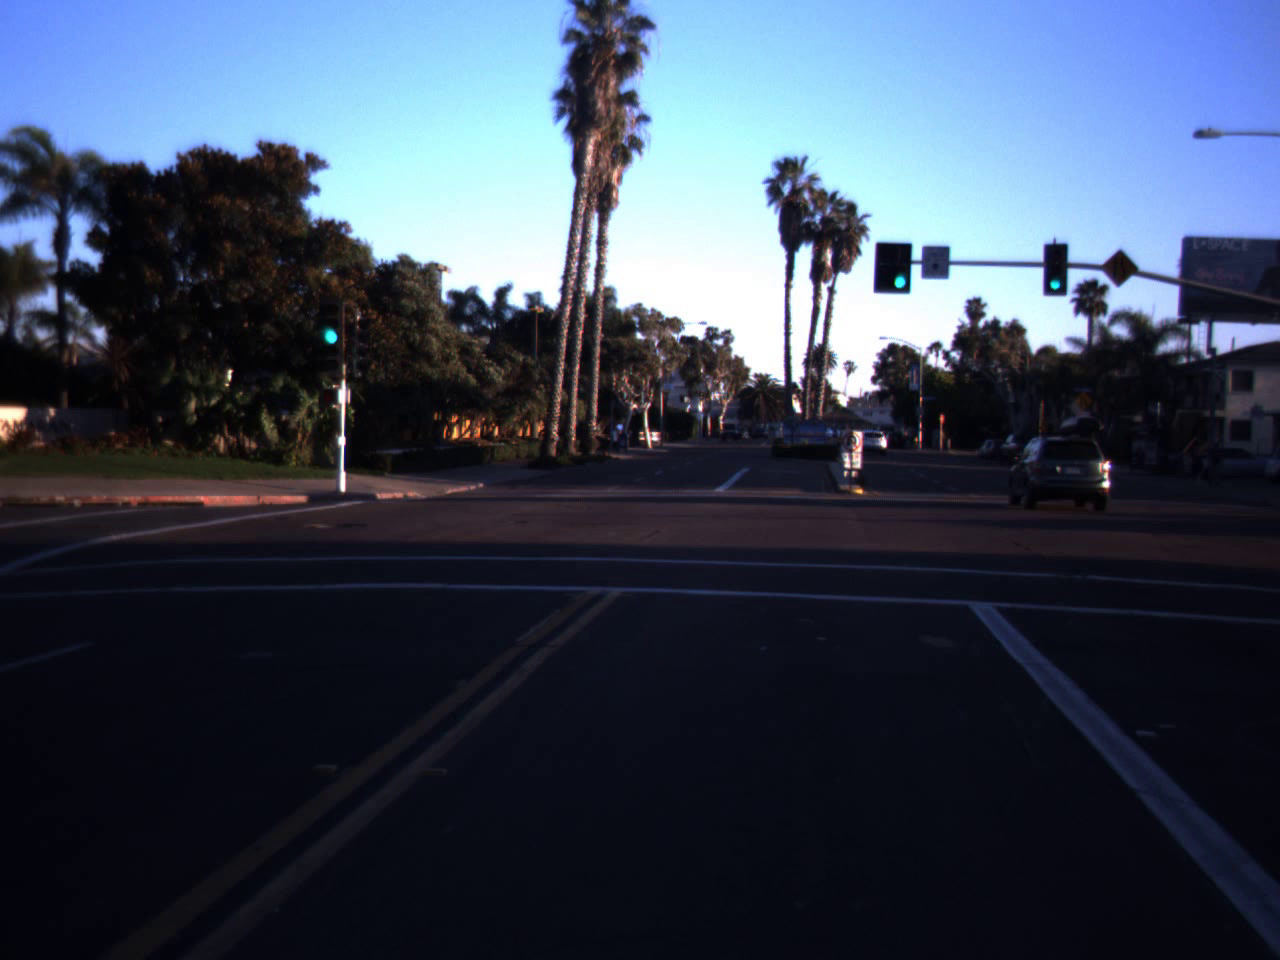go: (316, 289, 346, 349), (887, 242, 914, 292), (1045, 257, 1066, 292)
